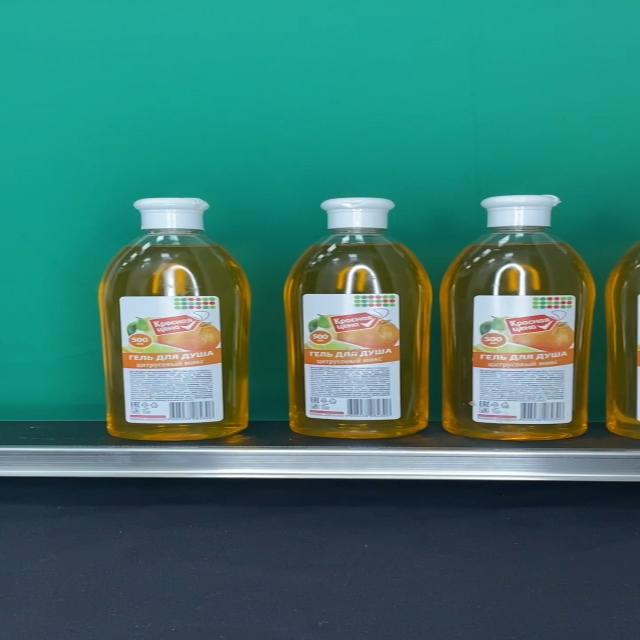Bottle: (441, 194, 595, 440), (98, 197, 251, 440), (284, 196, 432, 438)
Cap: (480, 194, 562, 228), (134, 197, 212, 230), (318, 197, 396, 230)
